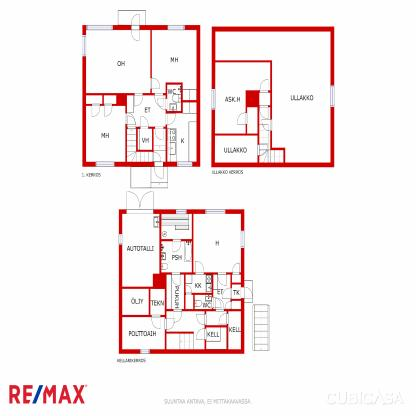door: (126, 189, 154, 212), (131, 11, 139, 44), (150, 163, 164, 181), (163, 318, 179, 332), (235, 108, 247, 126), (240, 286, 252, 302), (150, 315, 162, 331), (212, 295, 223, 310), (194, 258, 204, 274), (173, 308, 184, 322), (91, 106, 102, 119), (259, 104, 269, 118), (157, 98, 167, 112), (104, 104, 114, 118), (221, 287, 233, 298), (196, 313, 206, 326), (140, 115, 150, 128), (154, 92, 163, 106), (134, 94, 143, 108), (218, 313, 229, 324), (149, 78, 160, 89), (173, 239, 181, 254), (231, 262, 240, 275), (259, 78, 268, 91), (166, 112, 175, 125), (155, 127, 164, 140), (218, 274, 228, 285), (196, 328, 206, 339), (261, 120, 272, 130), (256, 144, 266, 154), (152, 152, 160, 164), (126, 115, 134, 126), (225, 302, 232, 310), (126, 114, 133, 121)
window: (86, 24, 115, 30), (97, 160, 115, 169), (175, 160, 192, 168), (210, 90, 216, 110), (206, 208, 225, 214), (330, 85, 334, 108), (166, 25, 184, 30), (82, 35, 86, 57), (140, 348, 149, 356), (240, 230, 244, 247), (177, 208, 186, 215), (118, 235, 121, 246)
zone: (216, 32, 331, 164), (86, 29, 152, 93), (216, 62, 272, 134), (193, 214, 242, 274), (125, 93, 165, 163), (151, 31, 196, 93), (122, 209, 158, 286), (86, 103, 127, 163), (166, 102, 197, 163), (165, 310, 204, 352), (121, 317, 165, 349), (214, 135, 257, 161), (211, 275, 241, 309), (161, 241, 191, 271), (161, 213, 191, 239), (122, 289, 150, 314), (165, 274, 186, 307), (227, 310, 241, 349), (185, 274, 211, 292), (205, 328, 226, 349), (151, 288, 166, 314), (168, 84, 180, 112), (206, 310, 227, 324), (193, 294, 212, 308), (242, 279, 251, 301), (184, 296, 194, 310), (231, 285, 241, 298), (231, 274, 241, 283)
